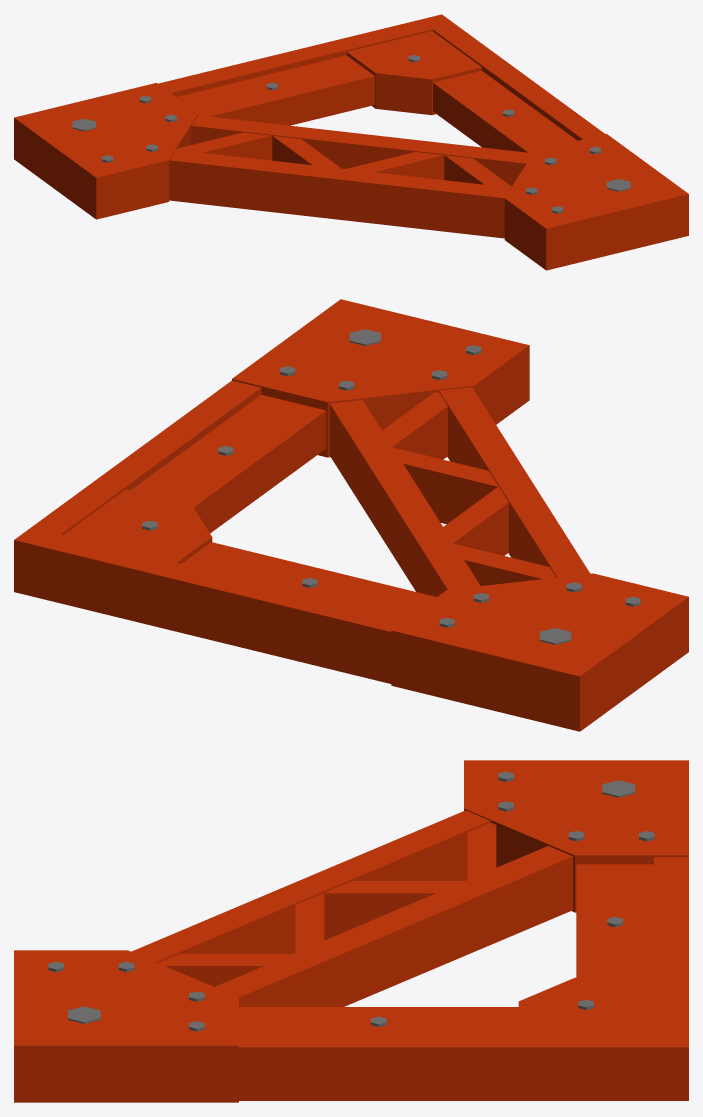
The model's file is Prop_Industrial_Beams_Brace_01.FBX.
The picture shows the model from 3 angles, top to bottom: view 1: azimuth 30°, elevation 25°; view 2: azimuth 150°, elevation 25°; view 3: azimuth 270°, elevation 25°; orthographic projection. The views are drawn at different scales.
Visible parts, largest first — view 1: Prop_Industrial_Beams_Brace_01; view 2: Prop_Industrial_Beams_Brace_01; view 3: Prop_Industrial_Beams_Brace_01.
Boxes of the visible parts, x1,y1,x2,y2 form: Prop_Industrial_Beams_Brace_01: (14, 14, 688, 270); Prop_Industrial_Beams_Brace_01: (14, 299, 688, 731); Prop_Industrial_Beams_Brace_01: (14, 760, 688, 1102).
Size of the model in its own units: 3000 by 307 by 3000.
